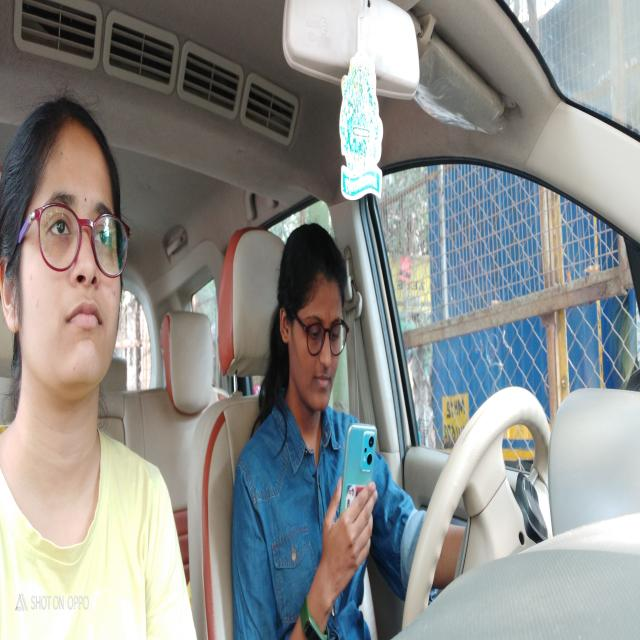mobile: (339, 393, 381, 570)
person: (0, 87, 138, 453), (268, 222, 354, 427)
